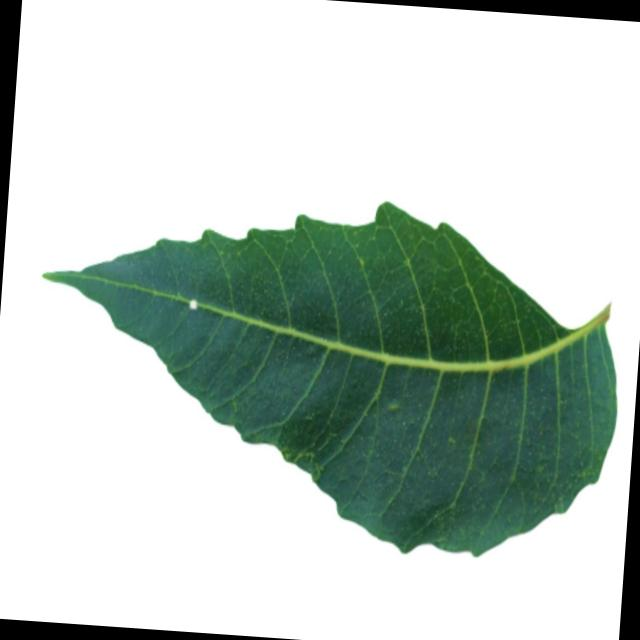Medicinal-Neem: (23, 180, 631, 568)
